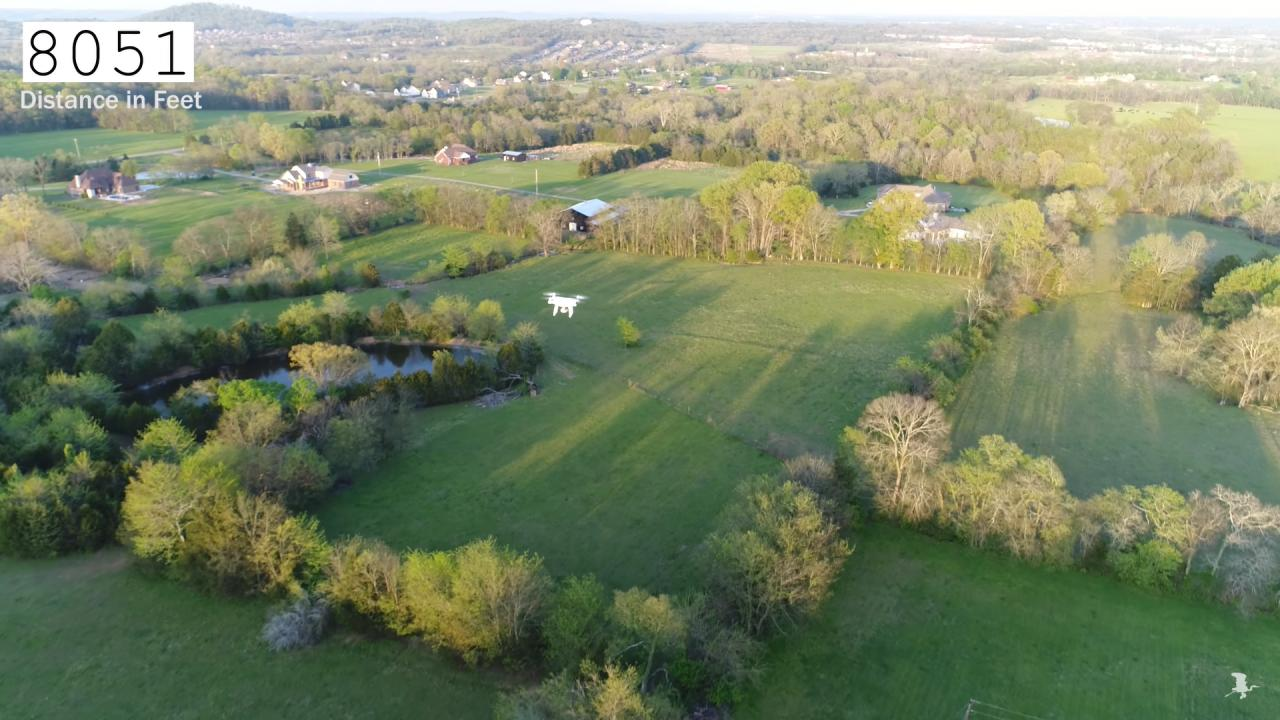Drone: (534, 282, 594, 325)
